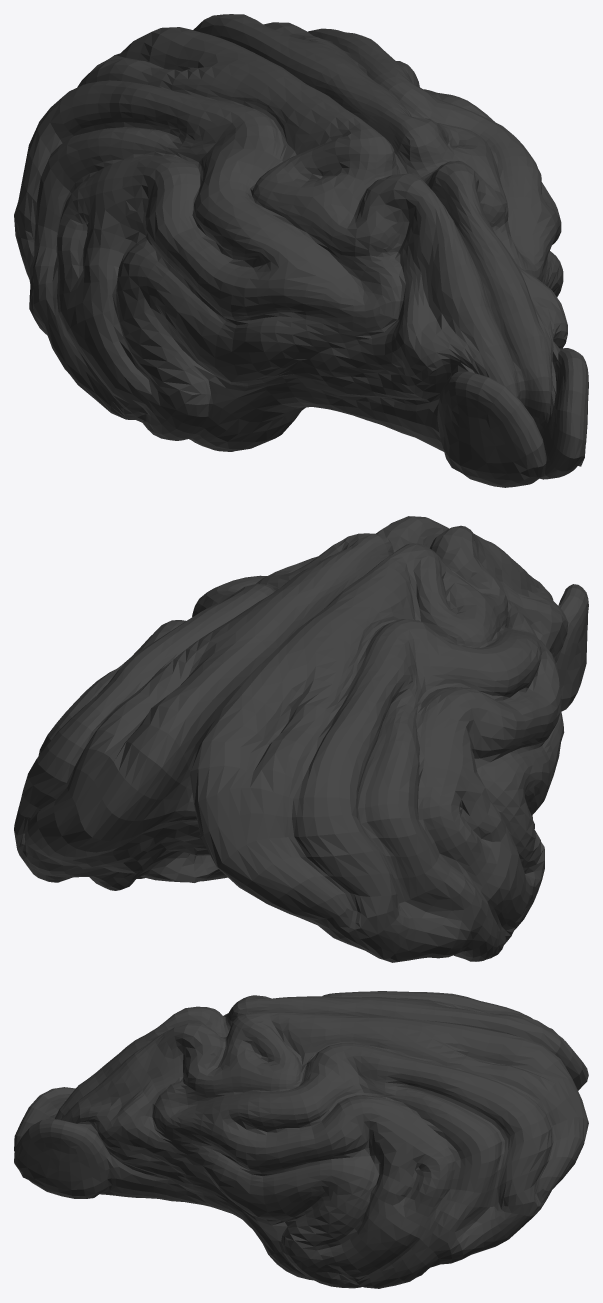
Rendered from Cerebrum_LO.glb.
3 views of the same model, one above another, from view 1: azimuth 30°, elevation 25°; view 2: azimuth 150°, elevation 25°; view 3: azimuth 270°, elevation 25° (orthographic). The views are drawn at different scales.
Visible parts, largest first — view 1: Cerebrum_LO; view 2: Cerebrum_LO; view 3: Cerebrum_LO.
Boxes of the visible parts, x1,y1,x2,y2 form: Cerebrum_LO: (14, 14, 588, 487); Cerebrum_LO: (14, 516, 588, 962); Cerebrum_LO: (14, 991, 588, 1288).
Bounding box in the file's own units: 0.0271 × 0.0192 × 0.0433.
Materials: 1 (1 with a texture image).
